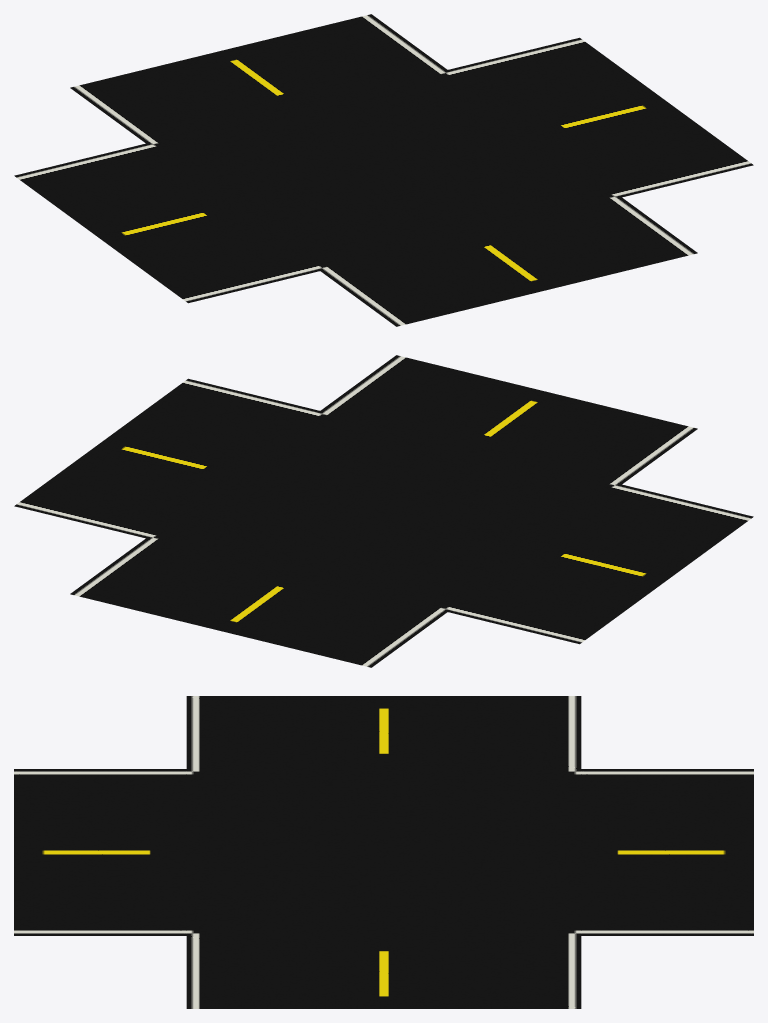
Rendered from mesh_crossroads.glb.
3 views of the same model, one above another, from view 1: azimuth 30°, elevation 25°; view 2: azimuth 150°, elevation 25°; view 3: azimuth 270°, elevation 25° (orthographic). The views are drawn at different scales.
Visible parts, largest first — view 1: crossroads; view 2: crossroads; view 3: crossroads.
Part boxes in pixels (x1,y1,x2,y2): crossroads: (14,14,753,326); crossroads: (14,355,753,667); crossroads: (14,696,753,1008).
Bounding box in the file's own units: 3.74 × 0 × 3.74.
Materials: 1 (1 with a texture image).
